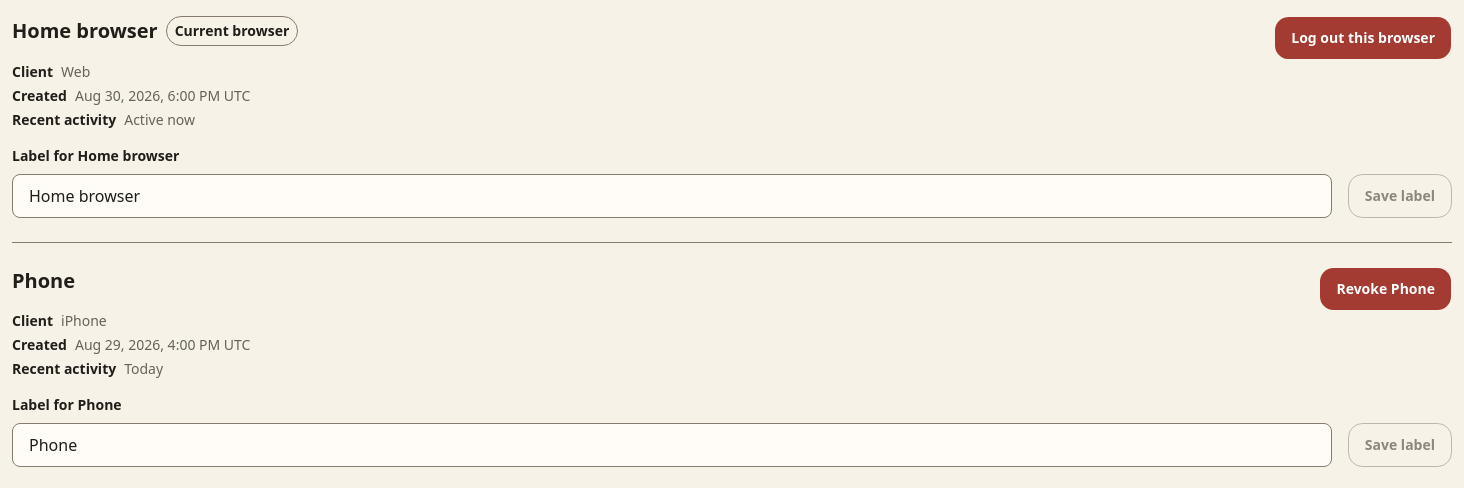
Test: uncertain session administration › reports an uncertain rename as unchanged only after inventory proves the old label
The image size is (1464, 488).
Replace the text in the field labelled "Label for Phone" with "Travel phone" at (672, 445), box [12,423,1332,467]
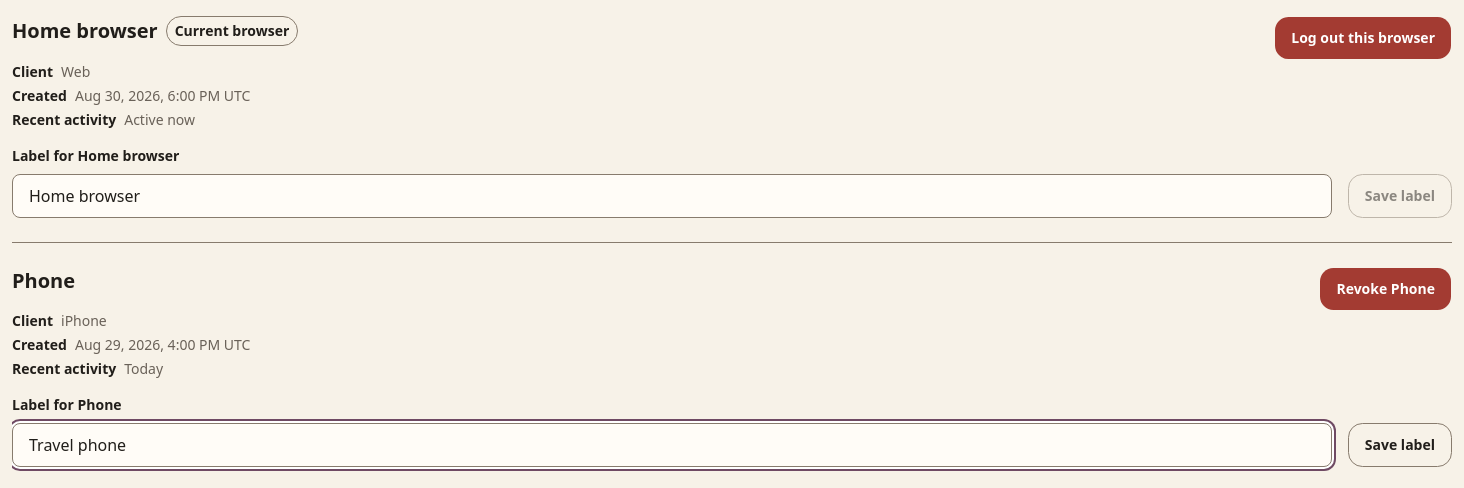
Click the button with aria-label "Save label for Phone" at (1400, 445), box [1348,423,1452,467]
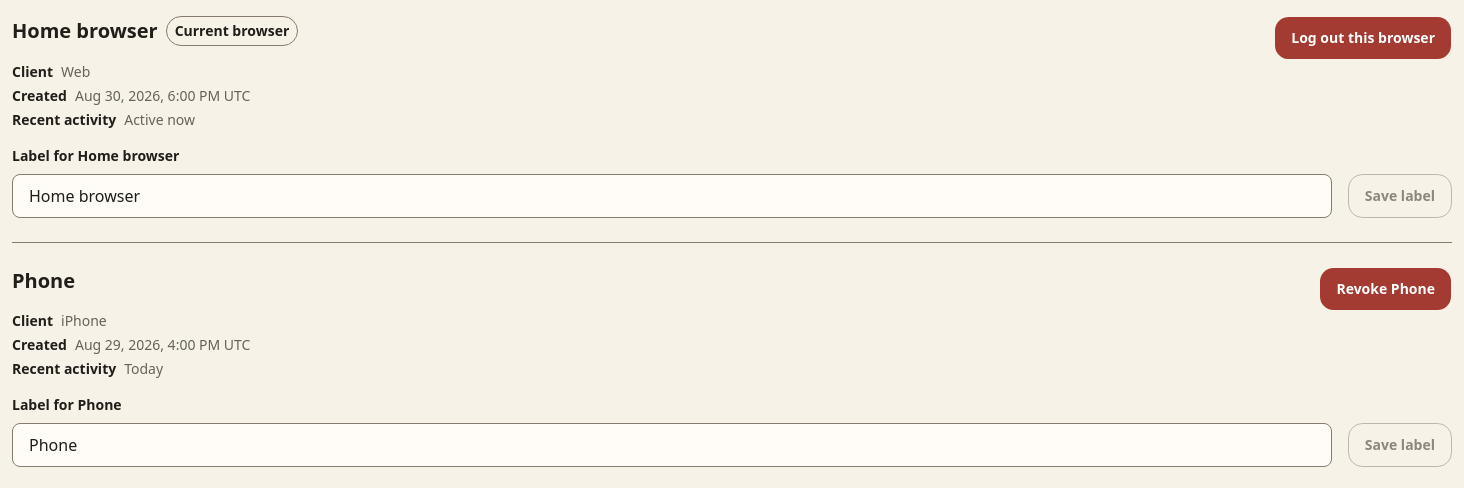
Now the field labelled "Label for Phone" holds "Phone", box [12,423,1332,467]
